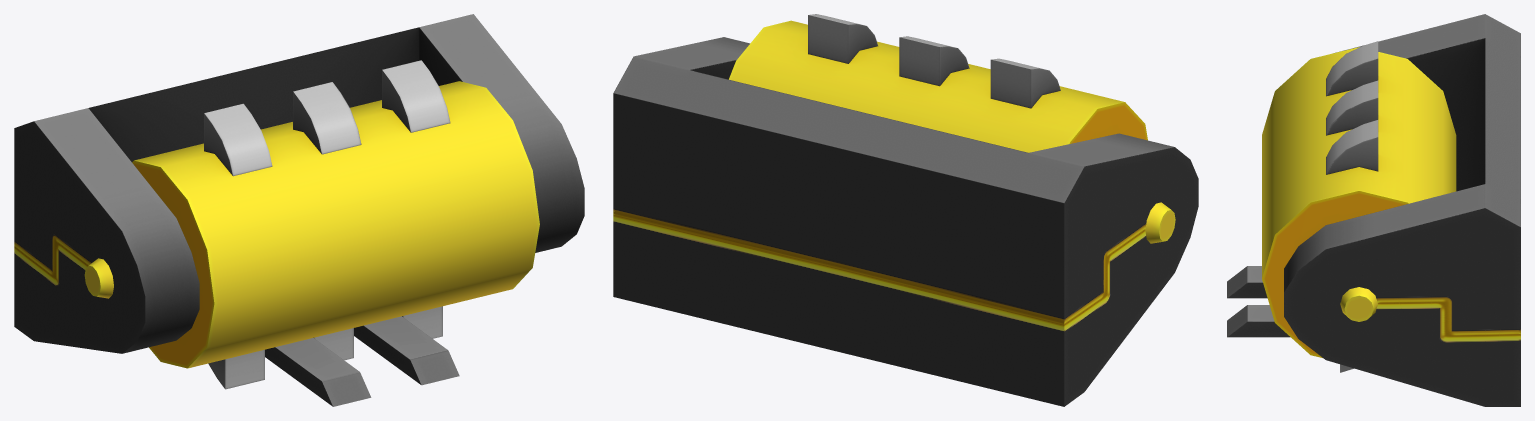
The model's file is front_drum_spinner_arena_2.fbx.
3 views of the same model, side by side, from view 1: azimuth 30°, elevation 25°; view 2: azimuth 150°, elevation 25°; view 3: azimuth 270°, elevation 25° (orthographic). The views are drawn at different scales.
Parts seen in each view (by area): view 1: Cylinder.108, Cube.064; view 2: Cube.064, Cylinder.108; view 3: Cube.064, Cylinder.108.
Part boxes in pixels (left/top/right/bottom): Cylinder.108: left=84, top=60, right=539, bottom=389; Cube.064: left=14, top=14, right=584, bottom=406; Cube.064: left=613, top=37, right=1198, bottom=406; Cylinder.108: left=729, top=14, right=1175, bottom=243; Cube.064: left=1227, top=14, right=1520, bottom=406; Cylinder.108: left=1262, top=41, right=1456, bottom=372.
Size of the model in its own units: 187 by 101 by 114.
